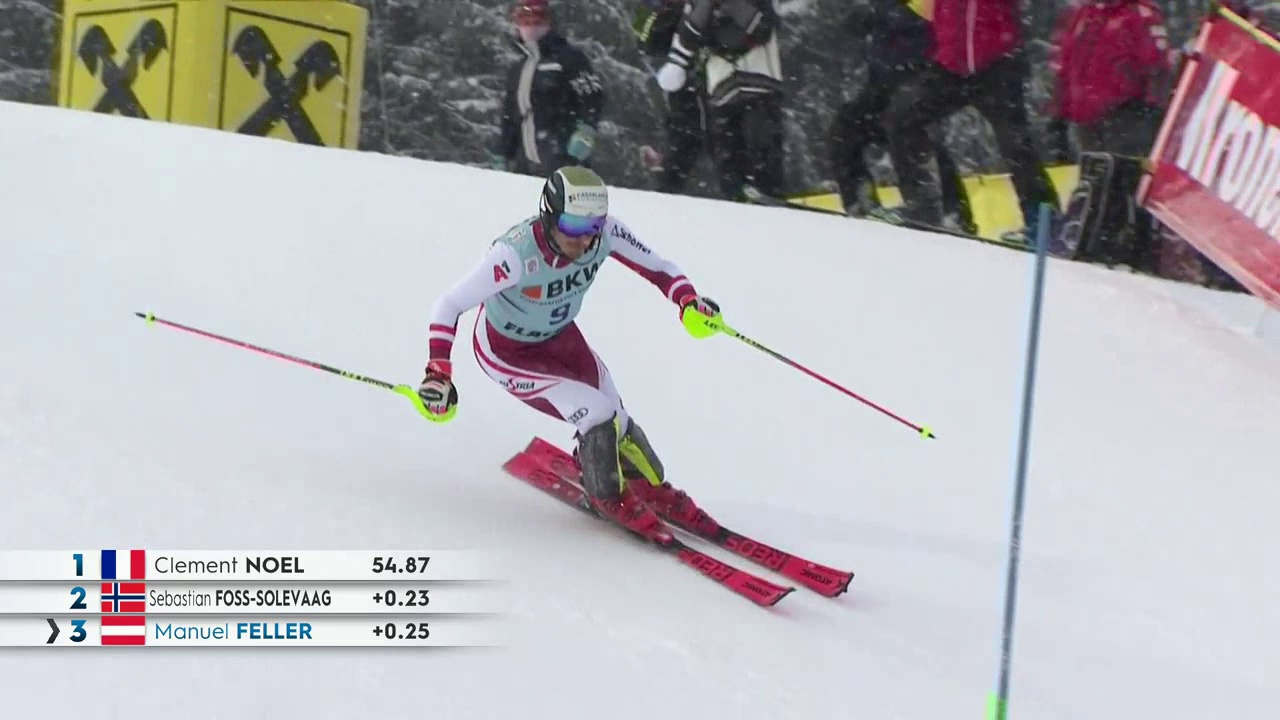a1: (494, 263, 518, 285)
raiffeisen: (203, 3, 347, 151), (64, 11, 176, 121)
